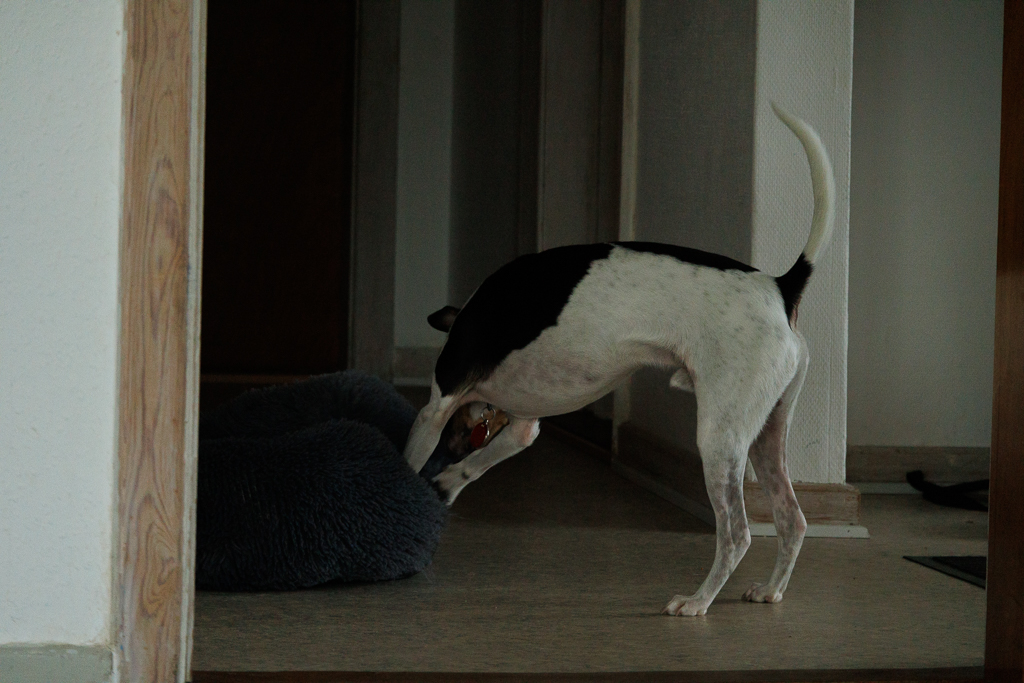Dog: (377, 90, 853, 623)
